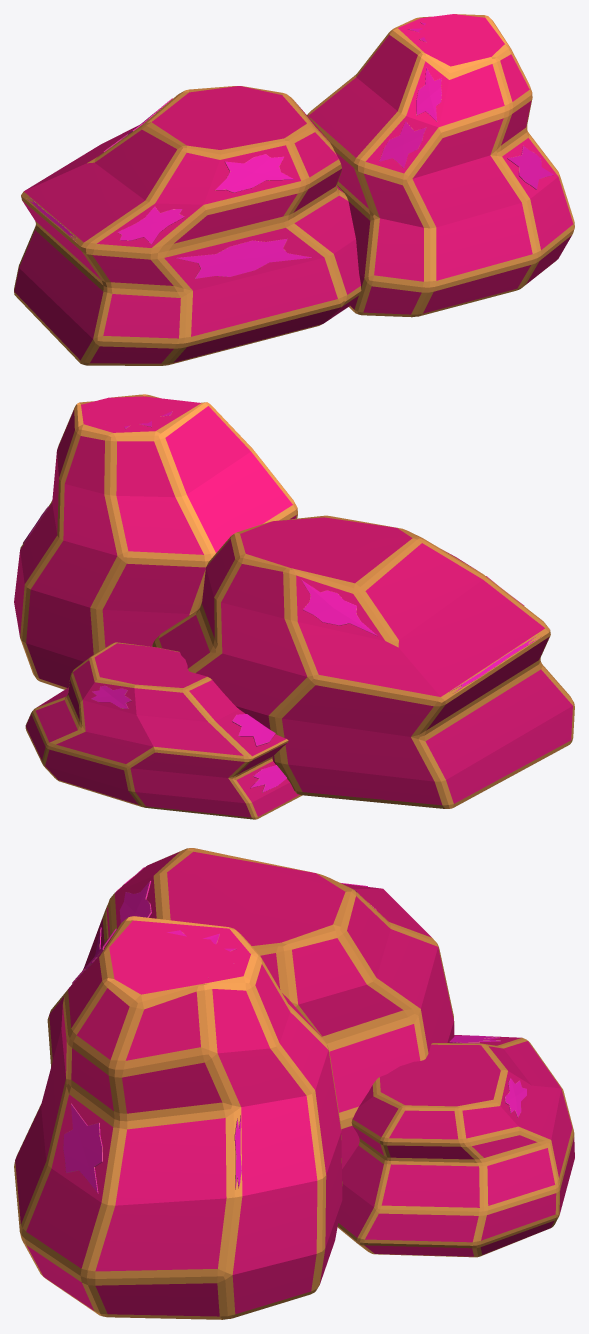
The model's file is SM_GardenRockCluster.fbx.
3 renders of one model, top to bottom at view 1: azimuth 30°, elevation 25°; view 2: azimuth 150°, elevation 25°; view 3: azimuth 270°, elevation 25°, orthographic. The views are drawn at different scales.
Visible parts, largest first — view 1: SM_GardenRockCluster; view 2: SM_GardenRockCluster; view 3: SM_GardenRockCluster.
Boxes of the visible parts, box(x1,y1,x2,y2) form: SM_GardenRockCluster: box(14, 14, 574, 365); SM_GardenRockCluster: box(14, 394, 574, 819); SM_GardenRockCluster: box(14, 848, 574, 1319).
Size of what is drawn, in the model's own units: 362 by 495 by 230.
